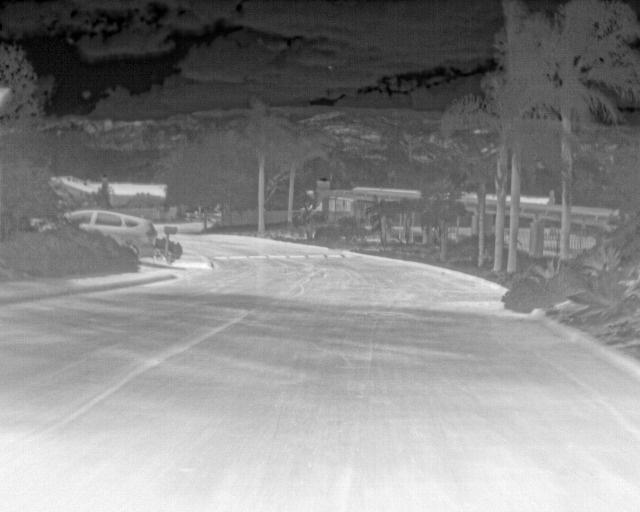car: (63, 209, 157, 259)
